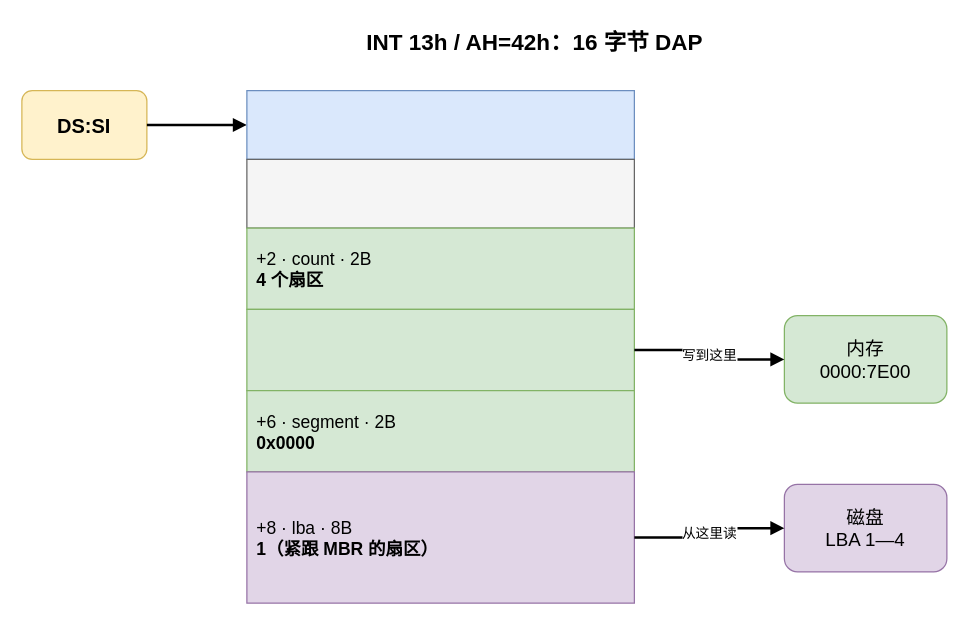
Some shapes in this 969 by 625 pixel diagram are drawn without their labels. Each missing label, with the centre of its shape:
+0 · size · 1B 16: the point at 440,124
+1 · reserved · 1B 0: the point at 440,193
+4 · offset · 2B 0x7E00: the point at 440,349
